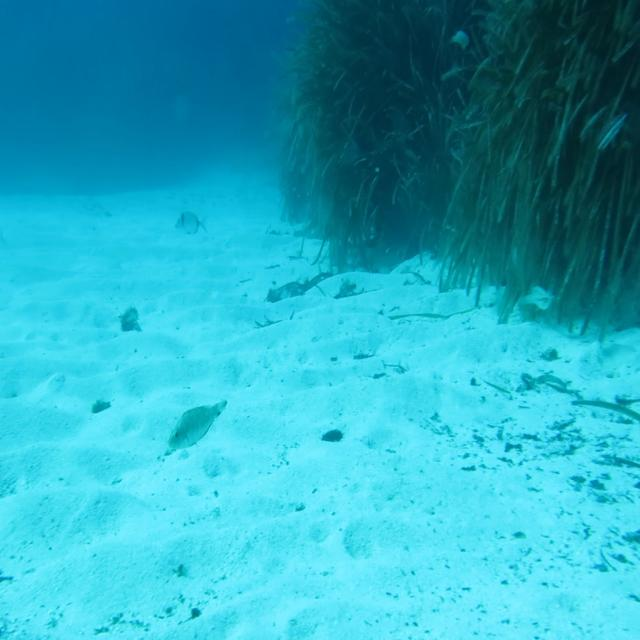BN: (166, 397, 228, 452)
female: (520, 284, 552, 314)
other_fish: (592, 107, 632, 158), (170, 207, 212, 237), (449, 28, 474, 48)
vegetation: (275, 0, 640, 337), (474, 348, 640, 504), (263, 269, 337, 306), (117, 301, 142, 335), (90, 394, 113, 416), (320, 425, 345, 445)
